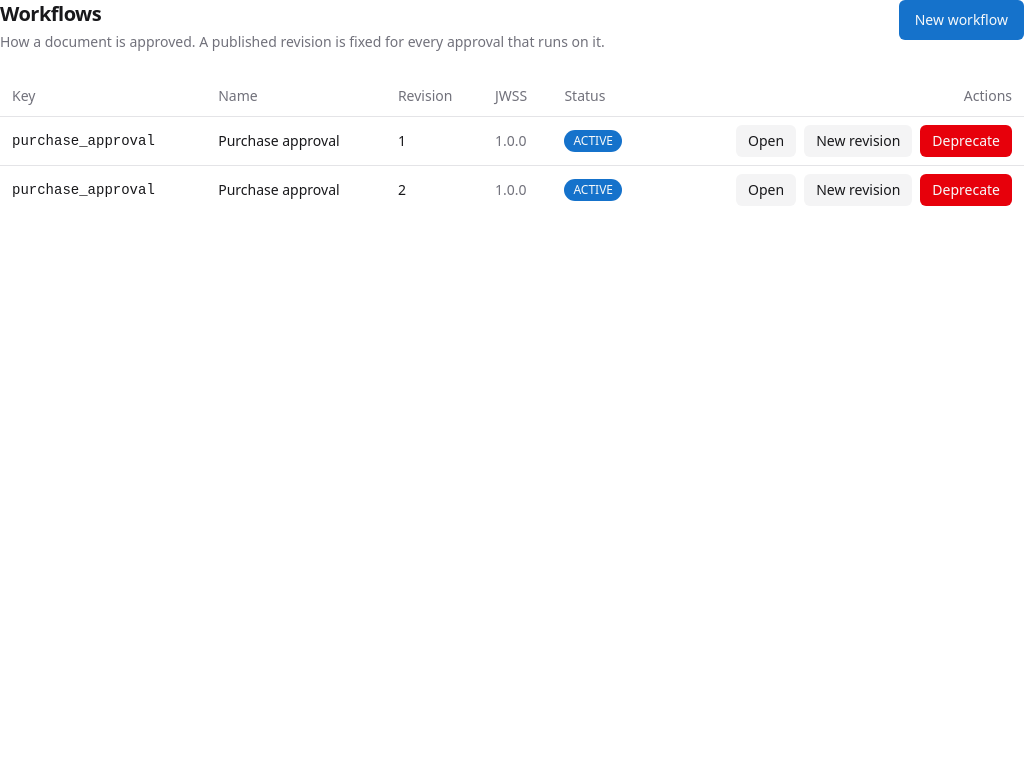
Test: WorkflowListPage › deprecating, adversarially (#713) › leaves another row’s actions free while one row’s deprecation is in flight
This screenshot has width=1024, height=768.
Click the button with test id "deprecate-purchase_approval-1" at (966, 140), box [920,124,1012,156]
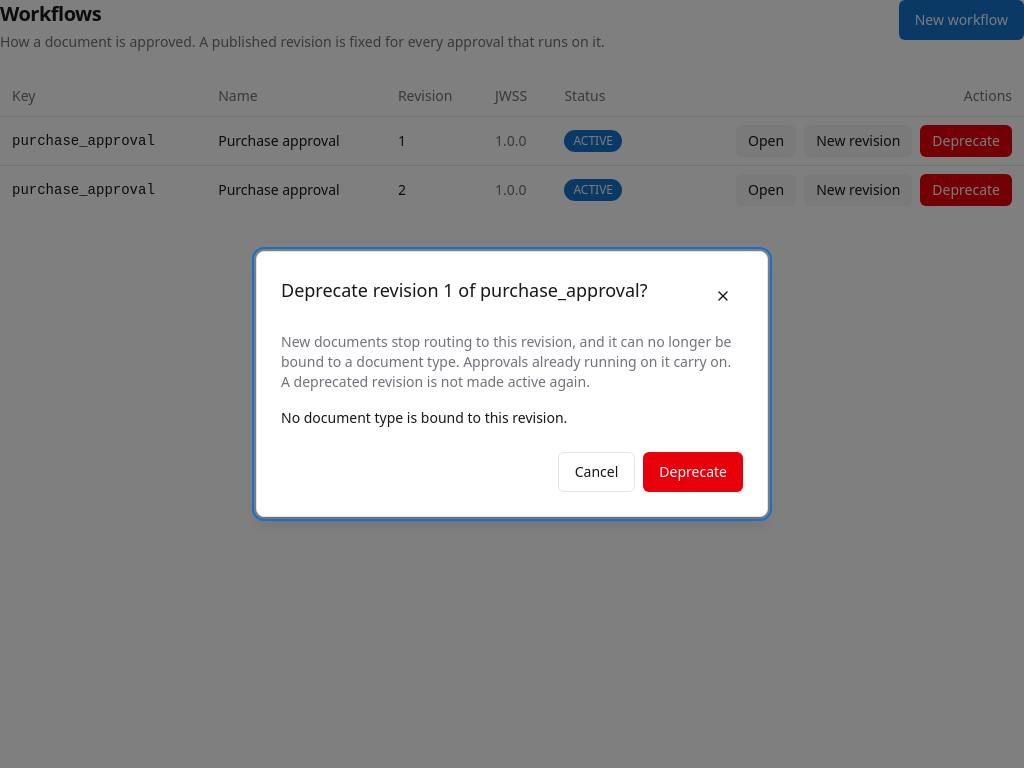
Click the button with test id "confirm-action" at (693, 472), box [643,452,743,492]
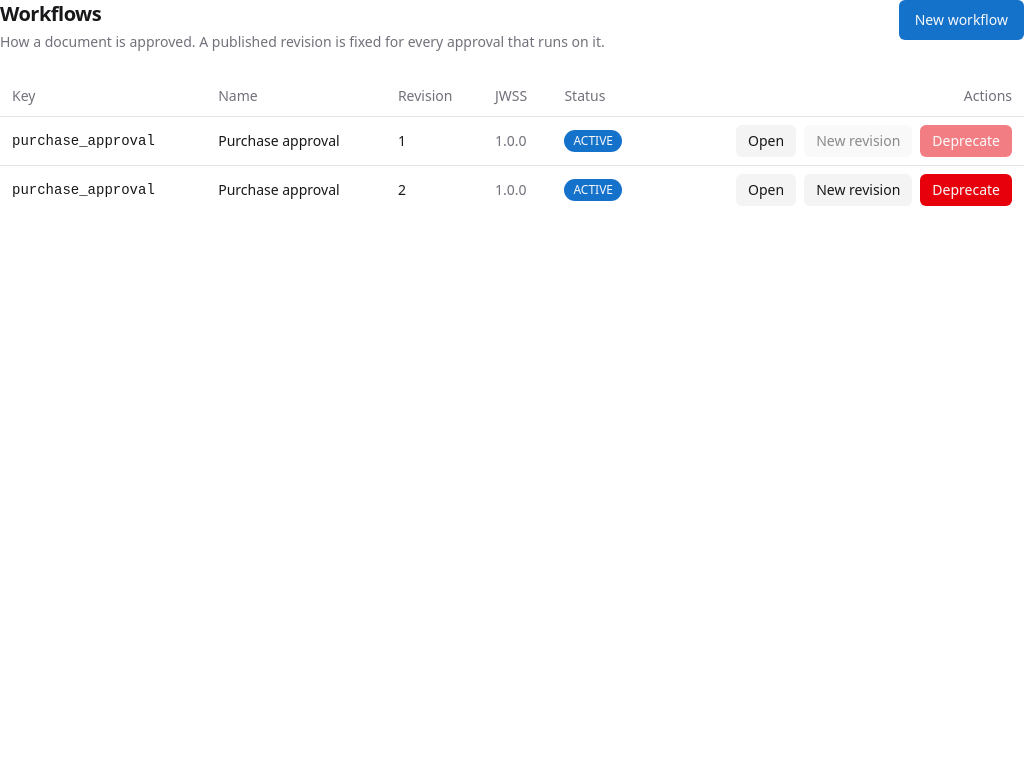
# The other row's warning opens and reads its own revision's types.
Click the button with test id "deprecate-purchase_approval-2" at (966, 190), box [920,174,1012,206]
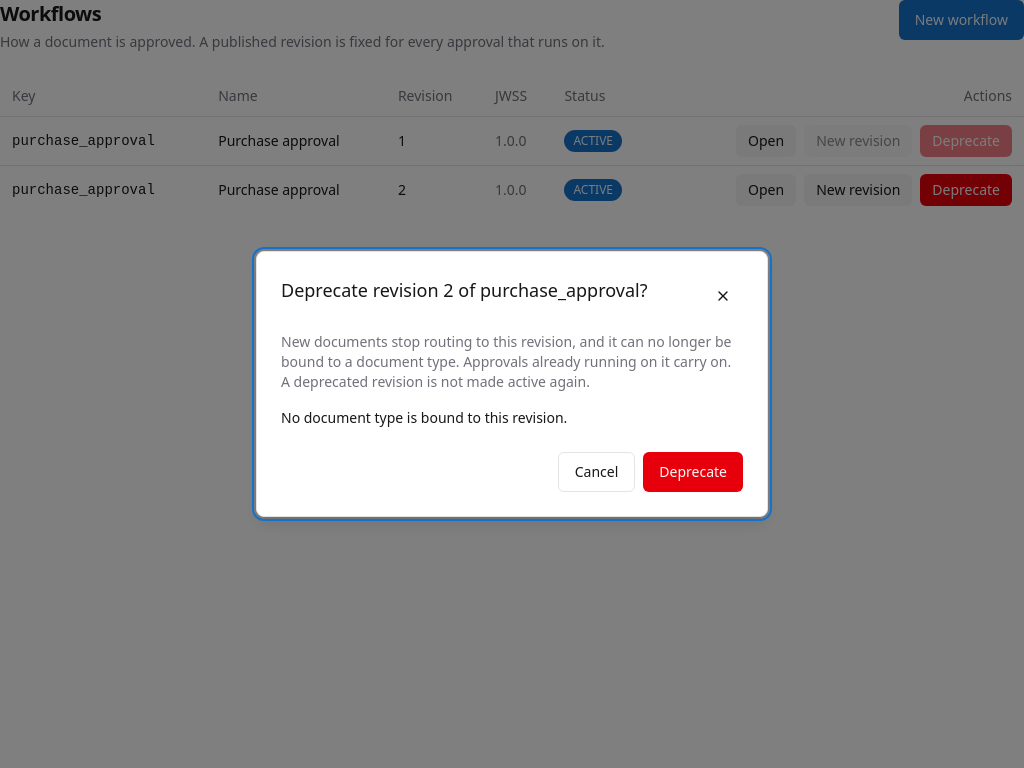
Click the button "Cancel" at (597, 472), box [558,452,635,492]
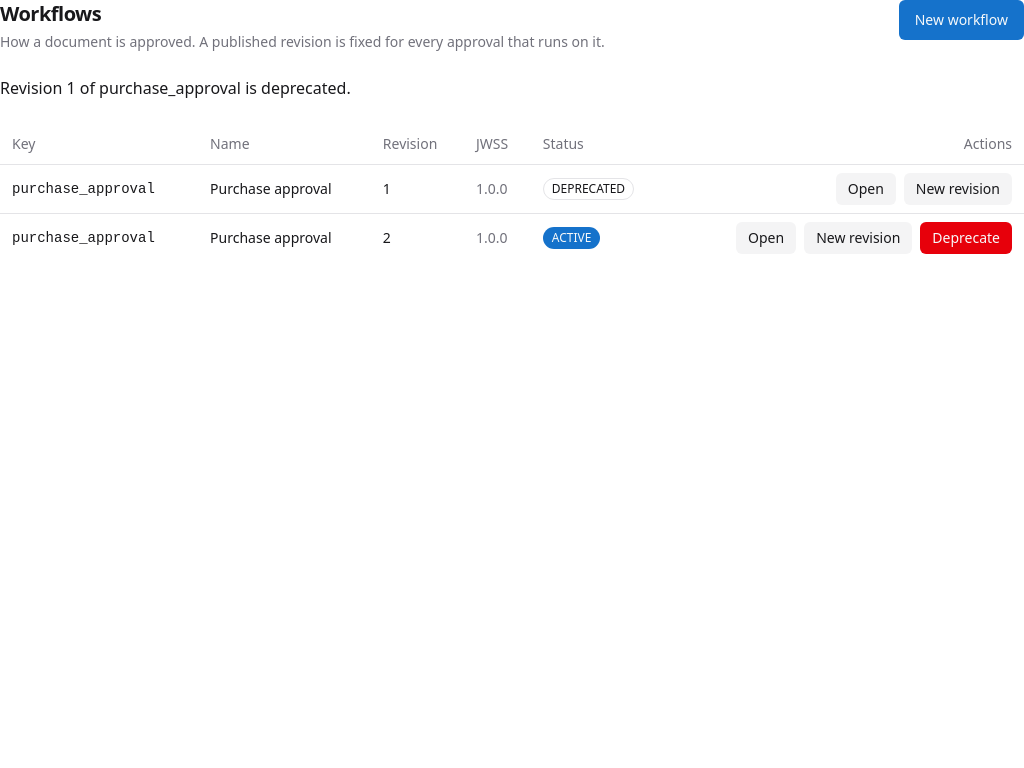
Expected: the row with test id "workflow-purchase_approval-2" shows "ACTIVE", [552,228,591,246]
Result: the row with test id "workflow-purchase_approval-1" shows "DEPRECATED" at [552,180,625,196]
